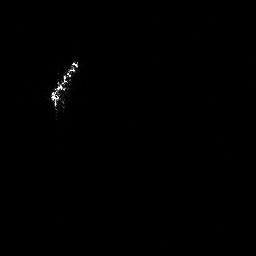ship: (46, 54, 82, 120)
